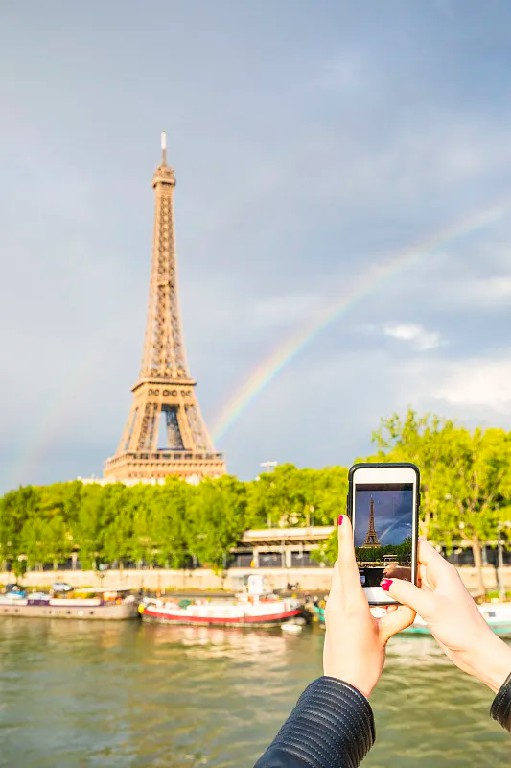Eiffel: (101, 130, 228, 485)
